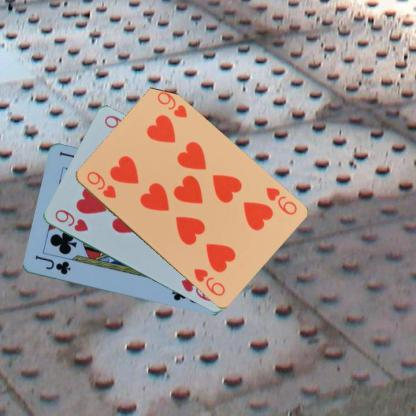9h: (262, 184, 298, 217), (84, 168, 117, 200), (52, 207, 90, 233)
Jc: (32, 253, 72, 276)
